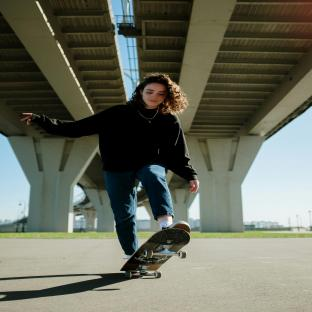Human: (21, 73, 199, 258)
